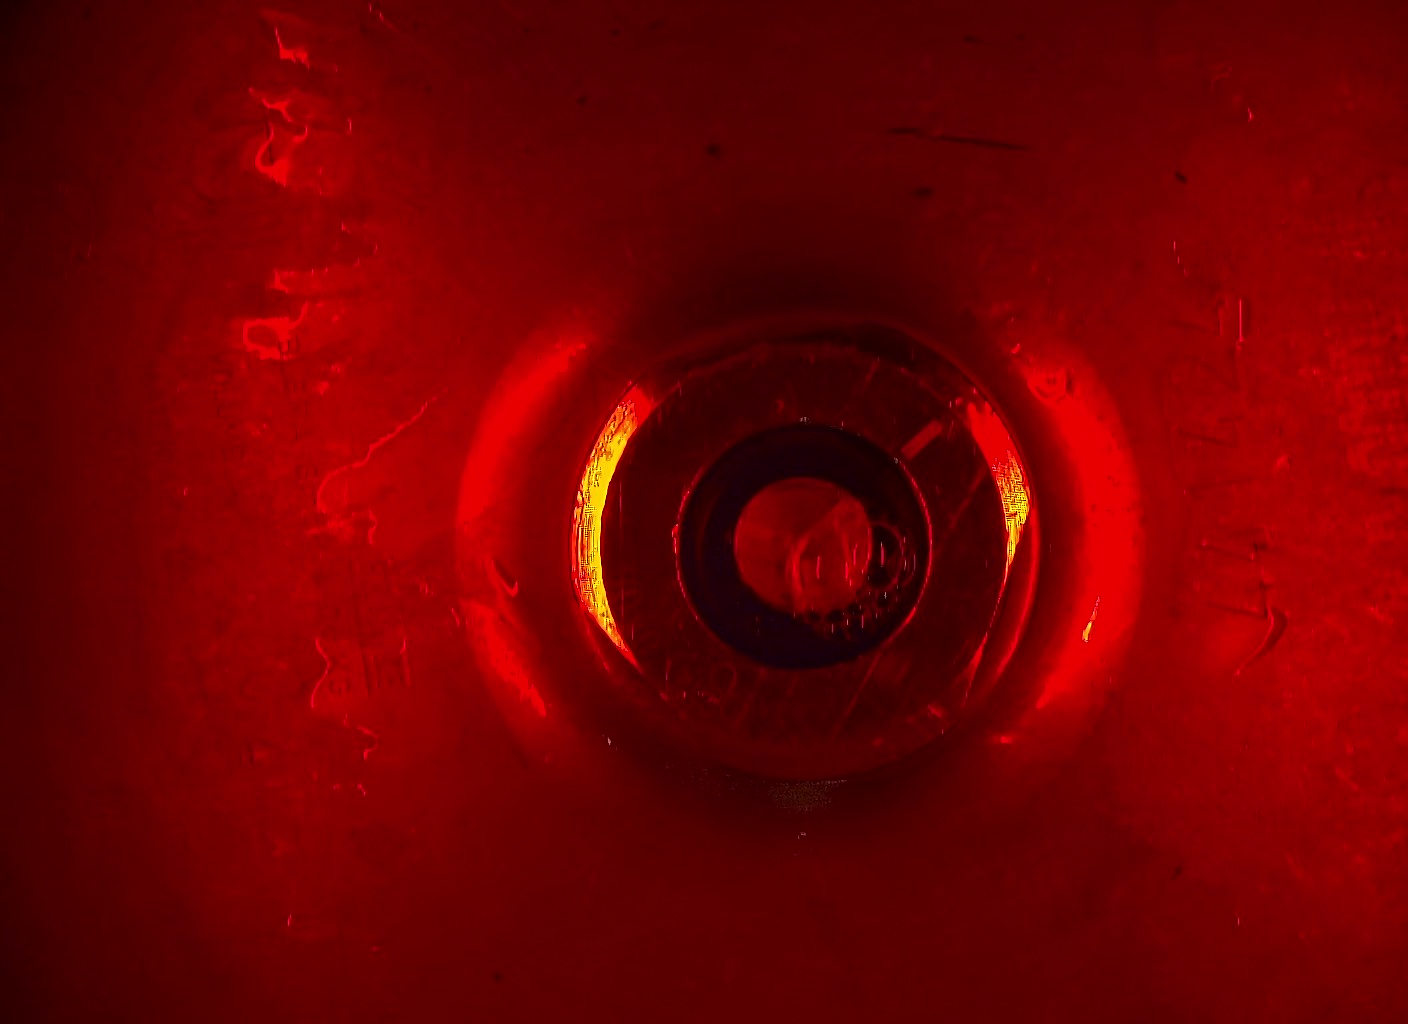pena: (778, 493, 917, 647)
